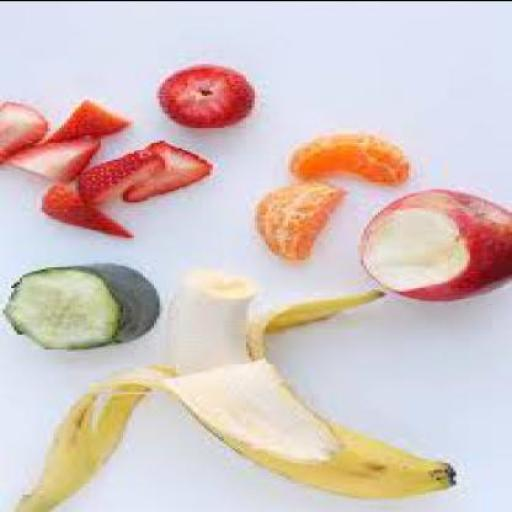biodegradable: (14, 273, 454, 511), (355, 193, 509, 302), (0, 265, 154, 352), (252, 184, 338, 263), (150, 66, 252, 130), (285, 134, 405, 185), (118, 142, 207, 200), (33, 191, 129, 242), (73, 148, 156, 205), (2, 140, 98, 186), (37, 102, 125, 145), (0, 103, 48, 162)
